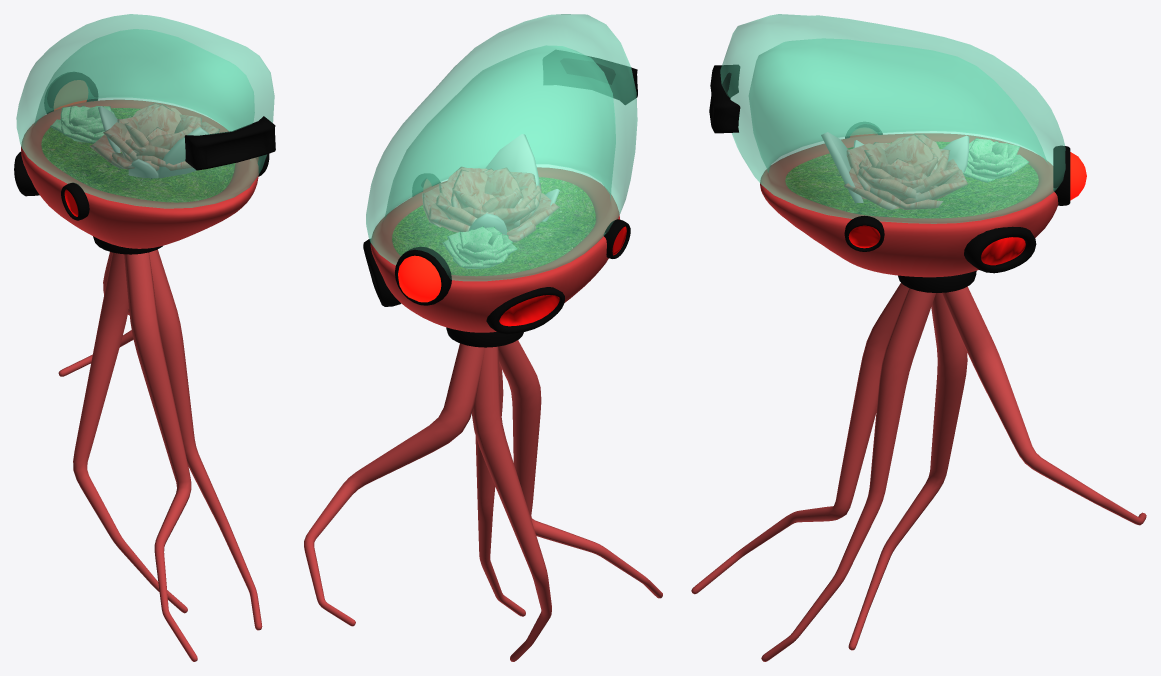
Rendered from vase_bot_clemchenscreation.glb.
The picture shows the model from 3 angles, left to right: view 1: azimuth 30°, elevation 25°; view 2: azimuth 150°, elevation 25°; view 3: azimuth 270°, elevation 25°; orthographic projection. The views are drawn at different scales.
Parts seen in each view (by area): view 1: Roundcube, Roundcube.001, Cube.001, Cube.003, Plane, Cube.005, Plane.024, Cube, Plane.001, Plane.025, Cylinder.002, Cylinder (+4 smaller); view 2: Roundcube, Roundcube.001, Cube.004, Plane, Cube.003, Plane.024, Cube.001, Torus, Cube, Cube.005, Plane.025, Plane.001 (+4 smaller); view 3: Roundcube, Roundcube.001, Cube.005, Plane.024, Cube.003, Cube.001, Plane, Cube.004, Torus, Plane.025, Cube, Plane.001 (+3 smaller).
Boxes of the visible parts, box(x1,y1,x2,y2) form: Roundcube: box(16, 14, 274, 208); Roundcube.001: box(21, 100, 258, 248); Cube.001: box(124, 252, 197, 661); Cube.003: box(73, 252, 187, 613); Plane: box(41, 108, 234, 202); Cube.005: box(149, 249, 262, 630); Plane.024: box(90, 103, 219, 170); Cube: box(184, 116, 275, 170); Plane.001: box(98, 106, 208, 177); Plane.025: box(50, 106, 114, 143); Cylinder.002: box(61, 182, 89, 220); Cylinder: box(44, 72, 97, 113); Roundcube: box(366, 14, 637, 281); Roundcube.001: box(370, 167, 619, 332); Cube.004: box(304, 343, 485, 626); Plane: box(392, 177, 595, 275); Cube.003: box(472, 346, 551, 661); Plane.024: box(422, 167, 559, 241); Cube.001: box(498, 340, 662, 598); Torus: box(363, 239, 564, 334); Cube: box(543, 50, 637, 104); Cube.005: box(475, 363, 525, 616); Plane.025: box(442, 226, 517, 268); Plane.001: box(469, 134, 559, 234); Roundcube: box(720, 14, 1065, 223); Roundcube.001: box(760, 133, 1058, 277); Cube.005: box(761, 288, 935, 661); Plane.024: box(844, 134, 967, 209); Cube.003: box(848, 293, 967, 650); Cube.001: box(691, 283, 909, 594); Plane: box(785, 142, 1038, 217); Cube.004: box(942, 286, 1146, 525); Torus: box(964, 226, 1036, 273); Plane.025: box(963, 138, 1029, 182); Cube: box(709, 65, 740, 133); Plane.001: box(821, 132, 968, 202).
Bounding box in the file's own units: 1.8 × 5.15 × 3.42.
